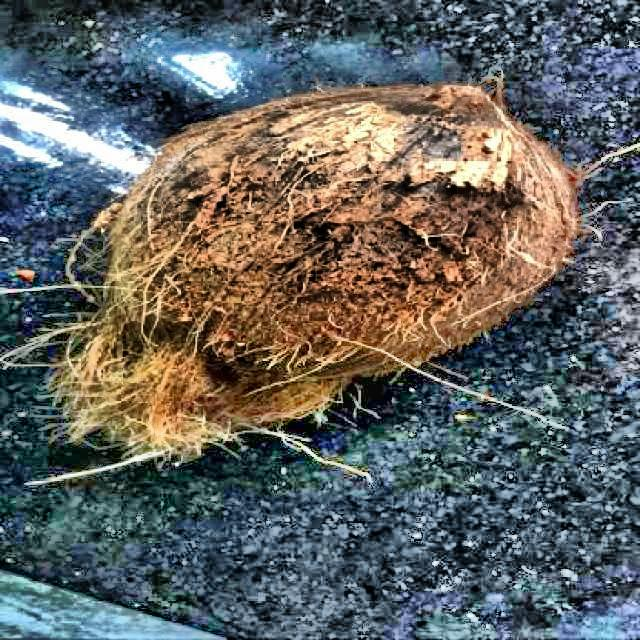good: (77, 80, 582, 445)
